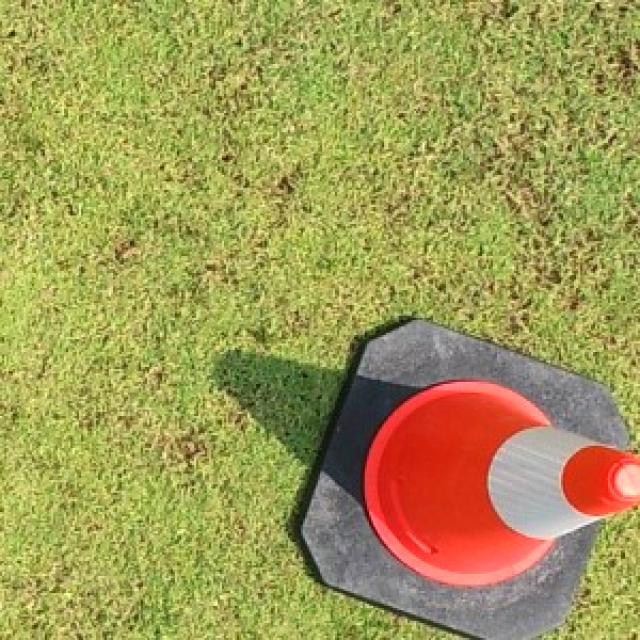cone: (296, 316, 638, 638)
